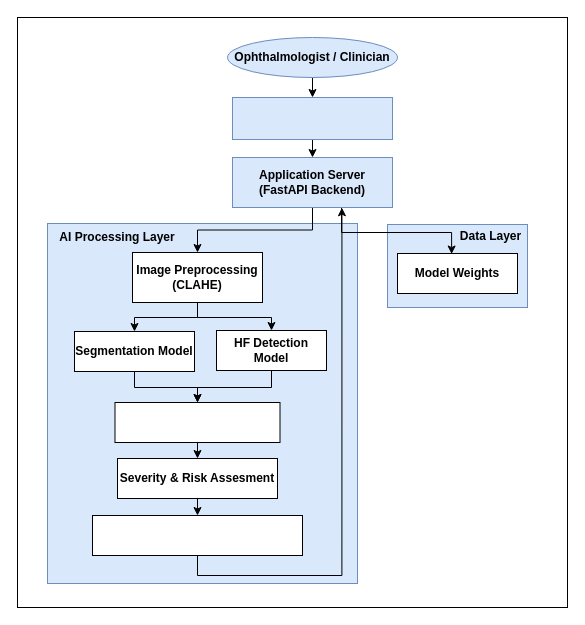
Image size: 585x625. Some labels were removed from this diagram. Each missing label, with the box of its shape:
Biomarker Quantification: (114, 402, 280, 442)
Visualization & Clinical Interpretation: (92, 514, 302, 556)
Web Dashborad Interface: (232, 96, 392, 140)
